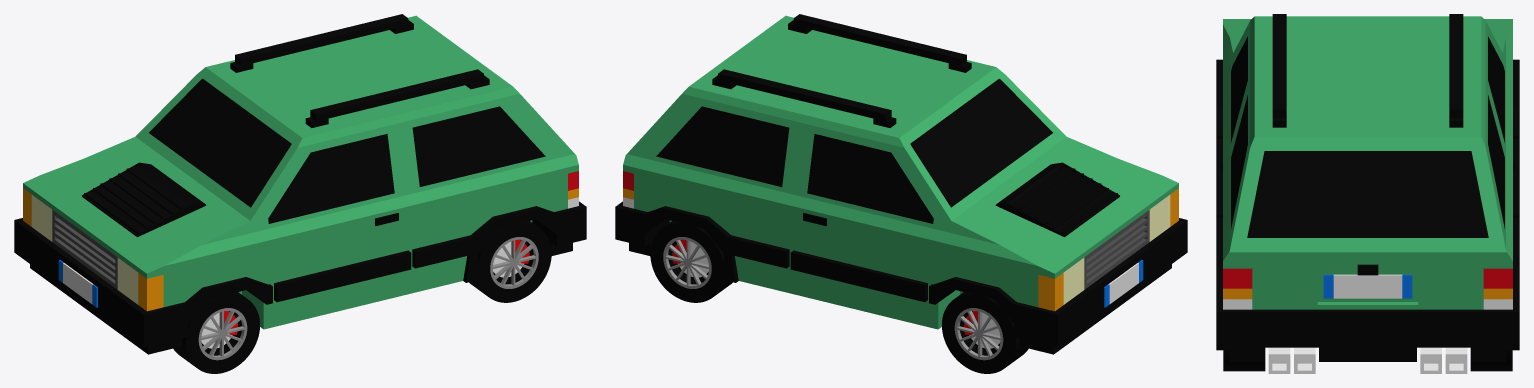
The model's file is pandino_v1.fbx.
3 views of the same model, side by side, from view 1: azimuth 30°, elevation 25°; view 2: azimuth 150°, elevation 25°; view 3: azimuth 270°, elevation 25° (orthographic). The views are drawn at different scales.
Parts seen in each view (by area): view 1: Oggetto_49, Oggetto_42, Oggetto_11, Oggetto_44, Oggetto_43, Oggetto_1, Oggetto_3, Oggetto_19, Oggetto_27, Oggetto_10, Oggetto_47, Oggetto_48 (+7 smaller); view 2: Oggetto_49, Oggetto_42, Oggetto_11, Oggetto_46, Oggetto_45, Oggetto_1, Oggetto_3, Oggetto_15, Oggetto_23, Oggetto_9, Oggetto_47, Oggetto_48 (+7 smaller); view 3: Oggetto_49, Oggetto_38, Oggetto_3, Oggetto_53, Oggetto_47, Oggetto_48, Oggetto_11, Oggetto_44, Oggetto_46, Oggetto_43, Oggetto_45, Oggetto_31 (+16 smaller).
Boxes of the visible parts, x1=… form: Oggetto_49: x1=23, y1=15, x2=578, y2=329; Oggetto_42: x1=149, y1=78, x2=291, y2=207; Oggetto_11: x1=14, y1=218, x2=272, y2=354; Oggetto_44: x1=412, y1=106, x2=545, y2=186; Oggetto_43: x1=268, y1=134, x2=394, y2=223; Oggetto_1: x1=82, y1=162, x2=206, y2=237; Oggetto_3: x1=412, y1=201, x2=586, y2=282; Oggetto_19: x1=173, y1=292, x2=259, y2=373; Oggetto_27: x1=469, y1=221, x2=551, y2=302; Oggetto_10: x1=274, y1=250, x2=411, y2=302; Oggetto_47: x1=305, y1=69, x2=489, y2=127; Oggetto_48: x1=230, y1=14, x2=413, y2=72; Oggetto_49: x1=623, y1=15, x2=1178, y2=329; Oggetto_42: x1=910, y1=78, x2=1052, y2=207; Oggetto_11: x1=929, y1=218, x2=1187, y2=354; Oggetto_46: x1=656, y1=106, x2=789, y2=186; Oggetto_45: x1=807, y1=134, x2=933, y2=223; Oggetto_1: x1=995, y1=162, x2=1119, y2=237; Oggetto_3: x1=615, y1=201, x2=789, y2=282; Oggetto_15: x1=942, y1=292, x2=1028, y2=373; Oggetto_23: x1=650, y1=221, x2=732, y2=302; Oggetto_9: x1=790, y1=250, x2=927, y2=302; Oggetto_47: x1=788, y1=14, x2=971, y2=72; Oggetto_48: x1=712, y1=69, x2=896, y2=127; Oggetto_49: x1=1223, y1=16, x2=1512, y2=309; Oggetto_38: x1=1247, y1=151, x2=1488, y2=237; Oggetto_3: x1=1216, y1=217, x2=1519, y2=361; Oggetto_53: x1=1333, y1=274, x2=1402, y2=298; Oggetto_47: x1=1272, y1=14, x2=1286, y2=127; Oggetto_48: x1=1449, y1=14, x2=1463, y2=127; Oggetto_11: x1=1216, y1=59, x2=1519, y2=138; Oggetto_44: x1=1231, y1=95, x2=1247, y2=228; Oggetto_46: x1=1488, y1=95, x2=1504, y2=228; Oggetto_43: x1=1231, y1=36, x2=1247, y2=142; Oggetto_45: x1=1488, y1=36, x2=1504, y2=142; Oggetto_31: x1=1223, y1=268, x2=1252, y2=288.
Size of the model in its own units: 334 by 166 by 152.
